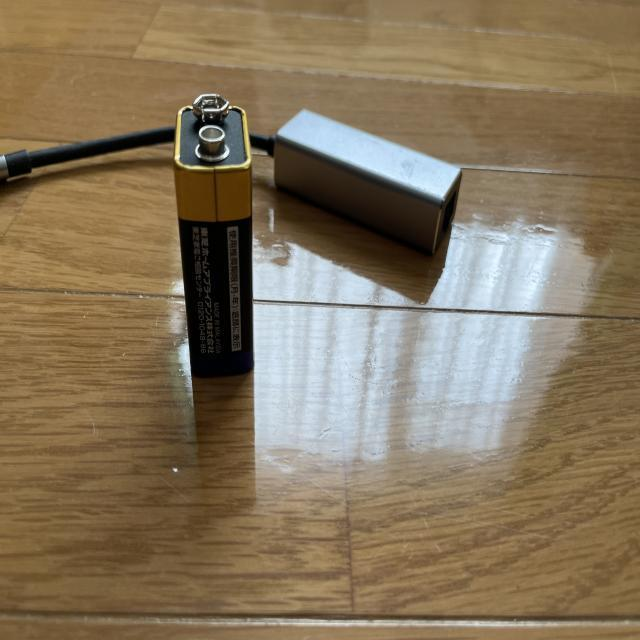9V: (172, 93, 255, 378)
